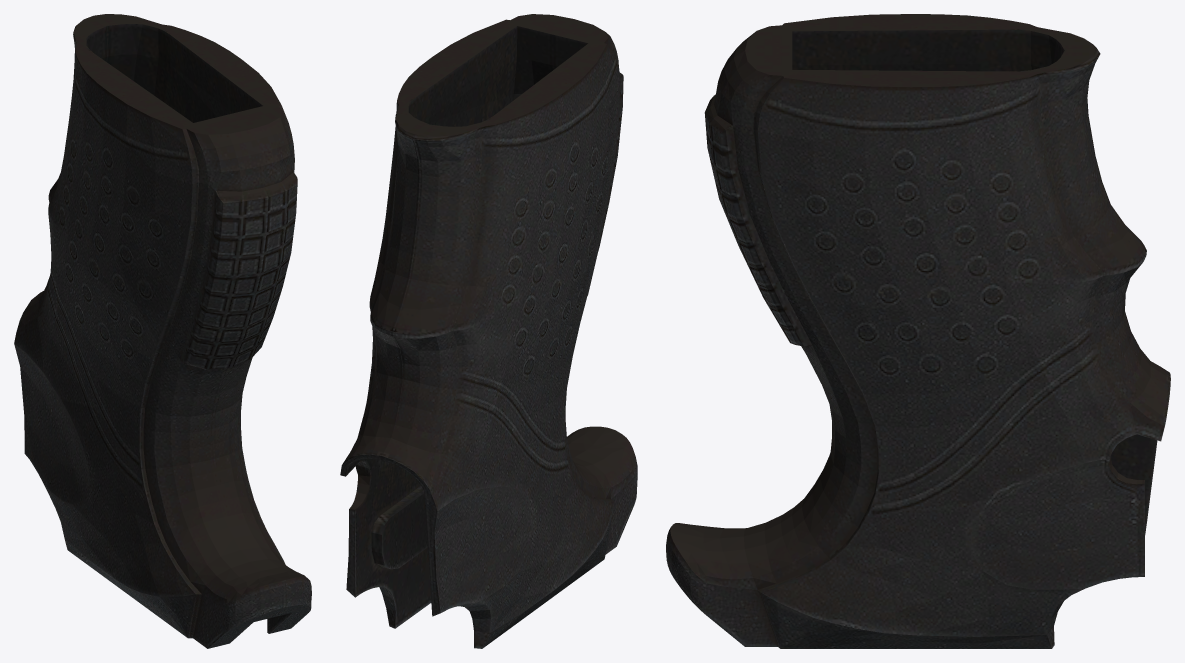
The picture shows the model from 3 angles, left to right: view 1: azimuth 30°, elevation 25°; view 2: azimuth 150°, elevation 25°; view 3: azimuth 270°, elevation 25°; orthographic projection. The views are drawn at different scales.
Visible parts, largest first — view 1: TW_5c079ec50db834001966a706_PZ_Import; view 2: TW_5c079ec50db834001966a706_PZ_Import; view 3: TW_5c079ec50db834001966a706_PZ_Import.
Boxes of the visible parts, x1,y1,x2,y2 form: TW_5c079ec50db834001966a706_PZ_Import: [14, 14, 311, 648]; TW_5c079ec50db834001966a706_PZ_Import: [340, 14, 637, 648]; TW_5c079ec50db834001966a706_PZ_Import: [666, 14, 1170, 648].
Bounding box in the file's own units: 0.0179 × 0.0487 × 0.061.
Materials: 1 (1 with a texture image).
